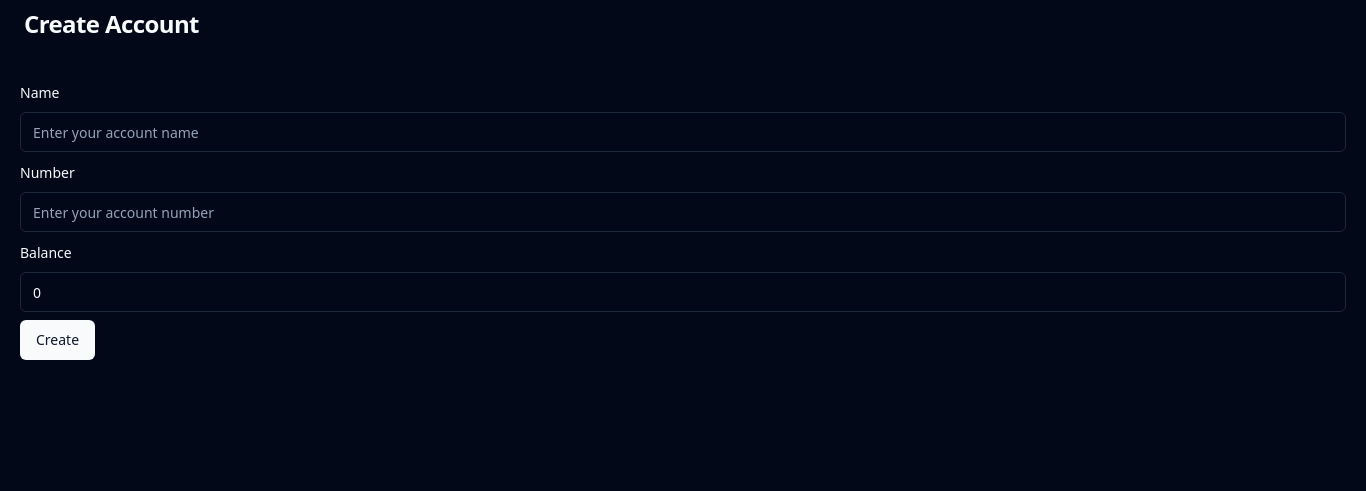
Test: Account Component › should render error message when axios post fails
Type "Test Name" into the field with test id "accountName".
click(683, 132); type("Test Name")  # box [20,112,1346,152]
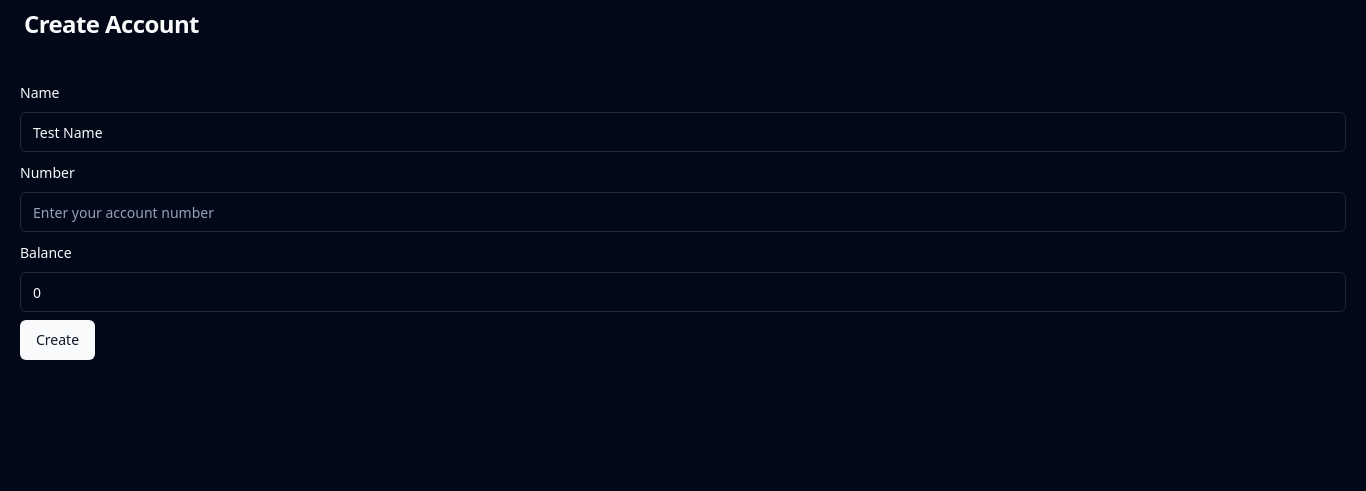
Type "1234567890" into the field with test id "accountNumber".
click(683, 212); type("1234567890")  # box [20,192,1346,232]
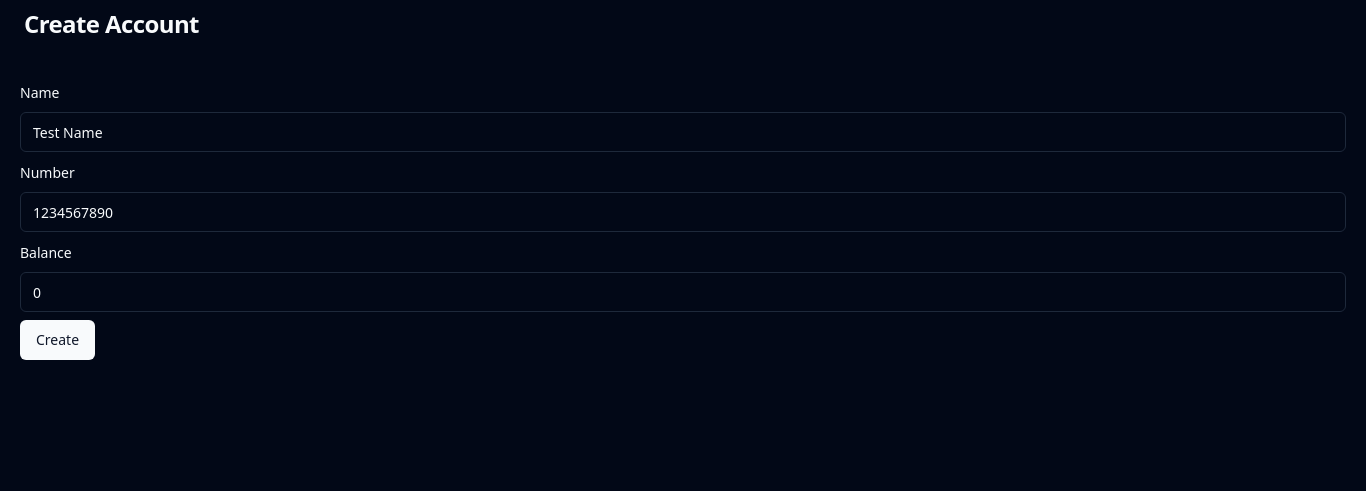
Replace the text in the number field with test id "balance" with "100" at (683, 292), box [20,272,1346,312]
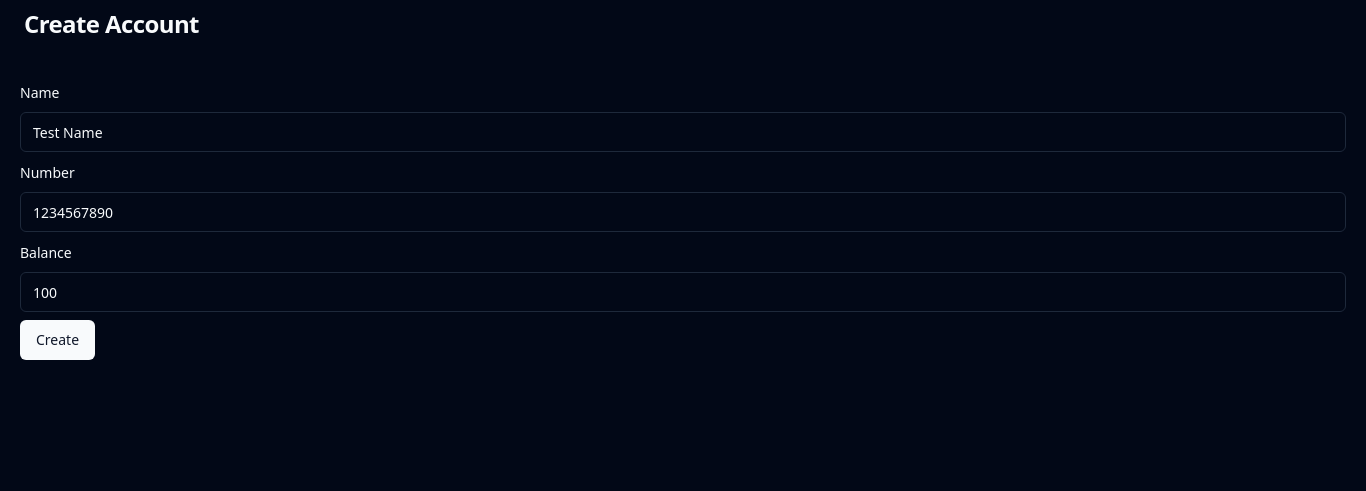
Click the button "Create".
click(58, 340)  # box [20,320,95,360]
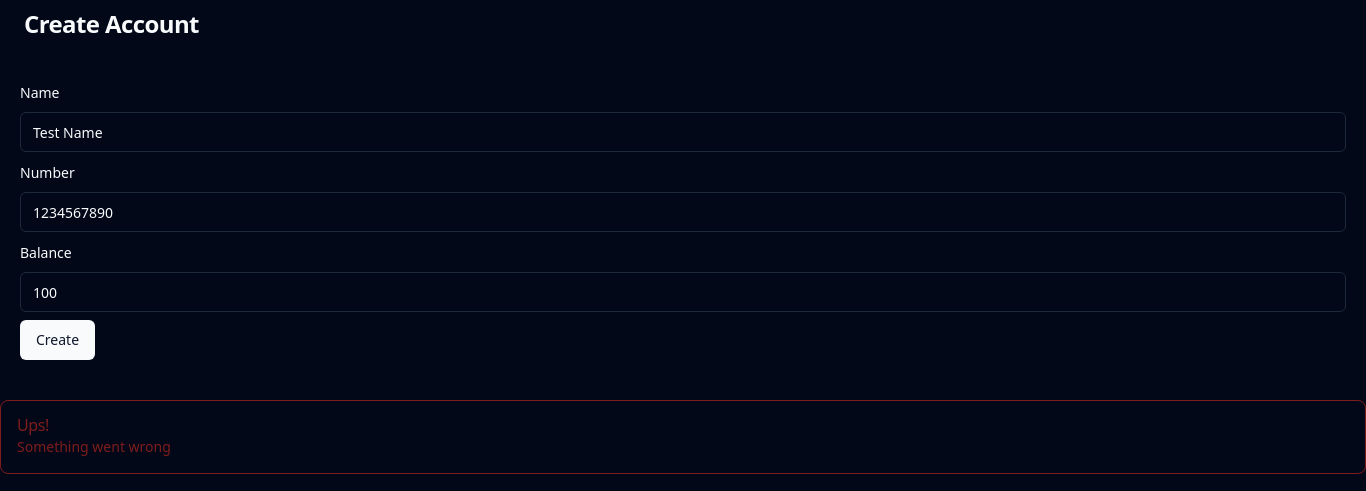
Result: the heading "Ups!" is shown at [17,414,49,436]
Result: the text "Something went wrong" is shown at [17,437,171,456]
